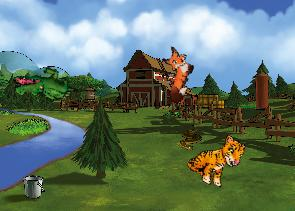crocodile: (10, 59, 78, 111)
fox: (149, 44, 200, 105)
tiger: (183, 124, 249, 193)
